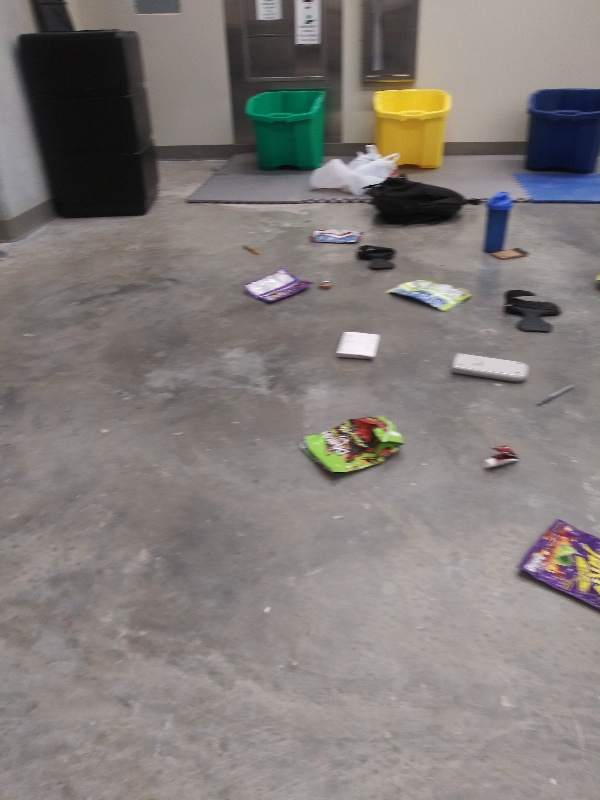bag: (512, 514, 600, 619), (294, 412, 409, 484), (378, 275, 478, 316), (237, 264, 316, 307), (307, 224, 369, 247)
